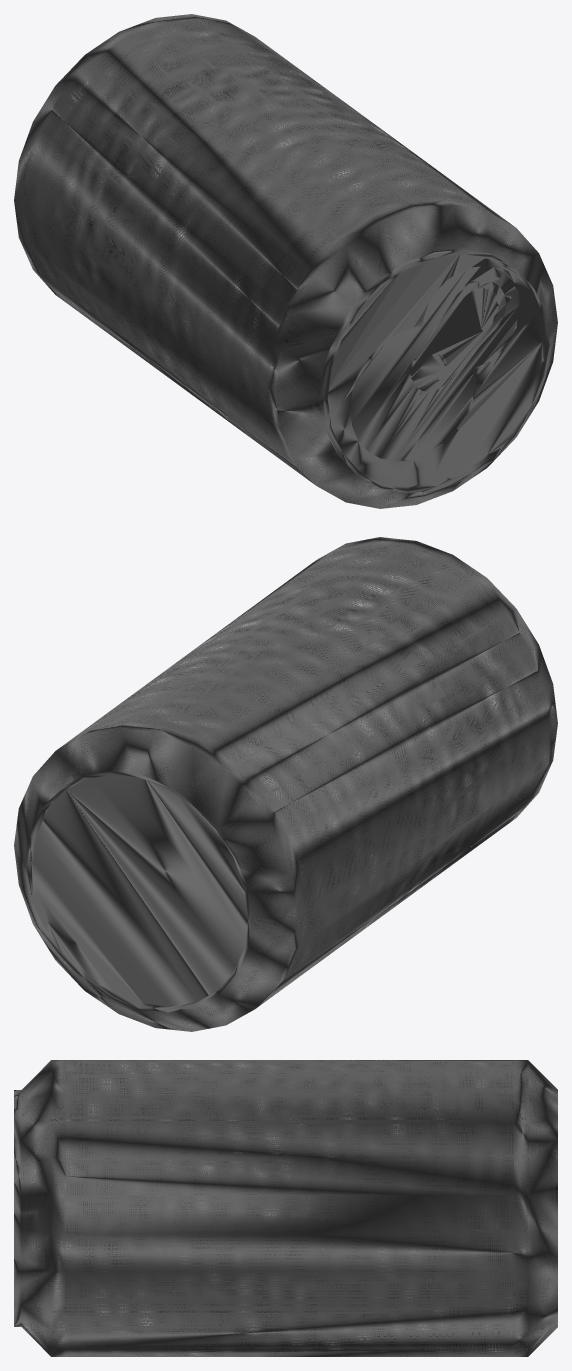
Rendered from model_align.obj.
The picture shows the model from 3 angles, top to bottom: view 1: azimuth 30°, elevation 25°; view 2: azimuth 150°, elevation 25°; view 3: azimuth 270°, elevation 25°; orthographic projection. The views are drawn at different scales.
Size of the model in its own units: 0.068 by 0.068 by 0.124.
